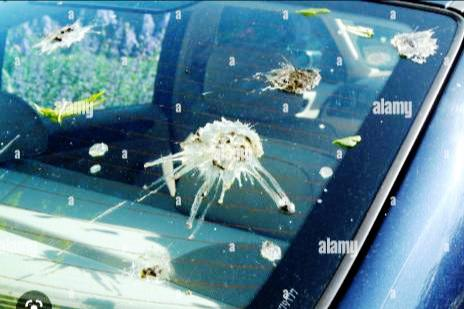Bird Poop: (145, 117, 294, 227), (33, 20, 98, 52), (254, 62, 320, 93), (390, 29, 437, 62), (132, 245, 173, 279), (340, 21, 373, 37), (261, 240, 280, 261), (333, 136, 360, 146), (89, 142, 107, 155), (319, 167, 332, 177), (90, 164, 100, 172)
